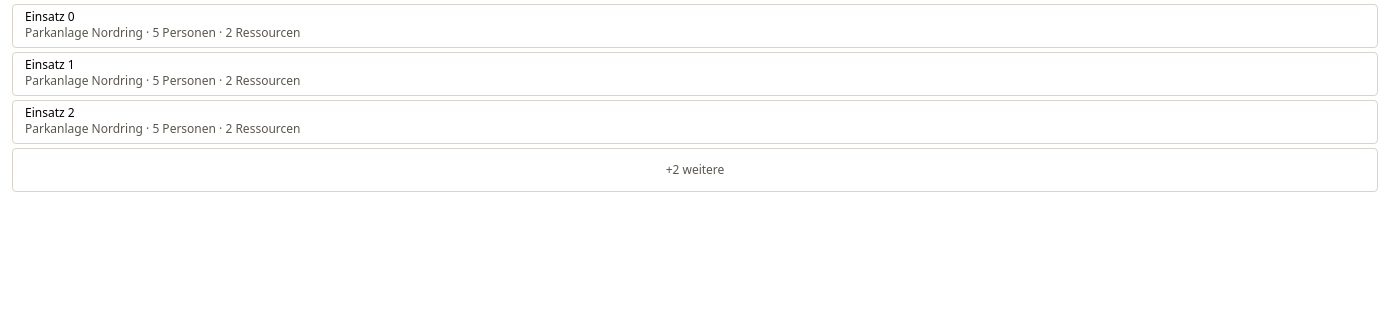
it: DayCardStack › klappt wieder zu
This screenshot has width=1390, height=309.
Click the button with test id "mehr-karten".
click(695, 170)  # box x1=12 y1=148 x2=1378 y2=192
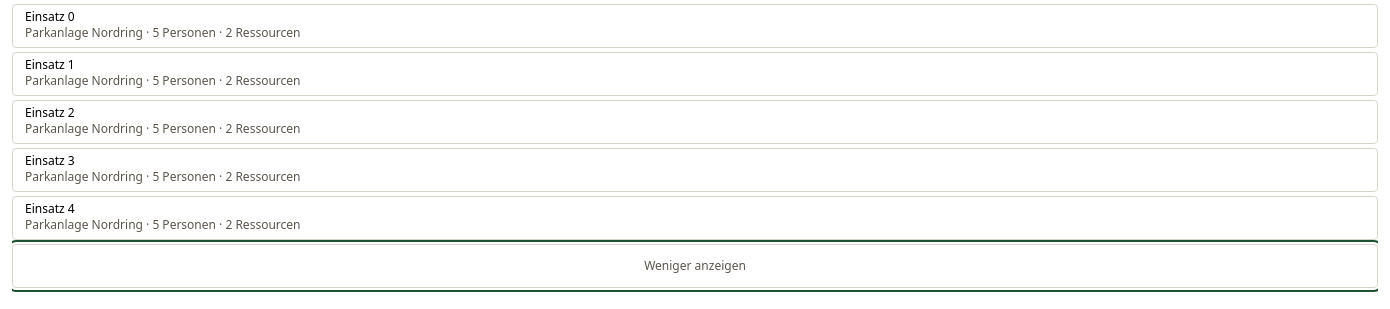
Click the button with test id "mehr-karten".
click(695, 266)  # box x1=12 y1=244 x2=1378 y2=288
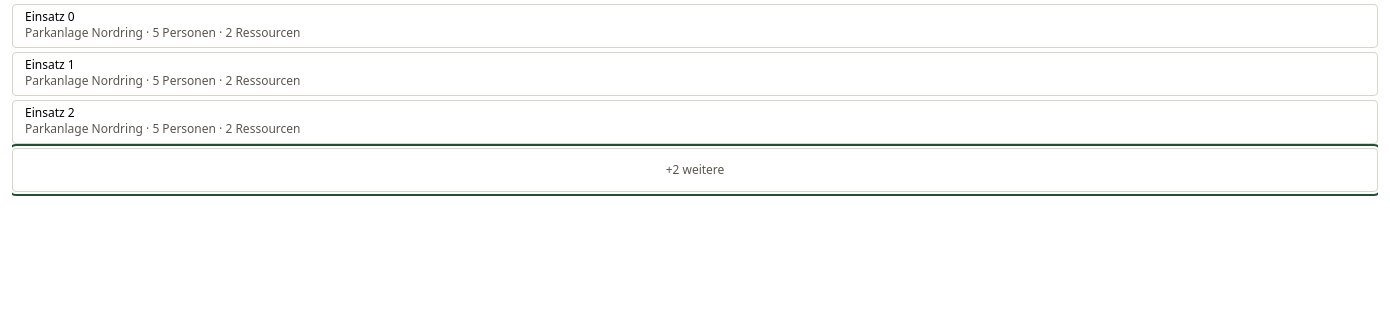
Check: the number of buttons with test id "tageskarte" is 3, box x1=12 y1=4 x2=1378 y2=48; x1=12 y1=52 x2=1378 y2=96; x1=12 y1=100 x2=1378 y2=144
Check: the button with test id "mehr-karten" is collapsed, box x1=12 y1=148 x2=1378 y2=192
